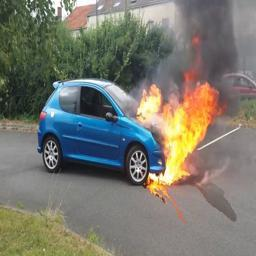fire: (136, 36, 226, 184)
